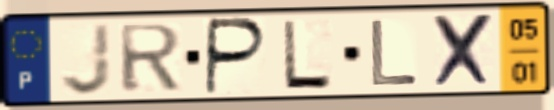J: (58, 20, 115, 98)
L: (279, 17, 336, 91), (368, 18, 421, 88)
P: (201, 16, 270, 98)
R: (116, 22, 186, 96)
X: (430, 11, 498, 91)
